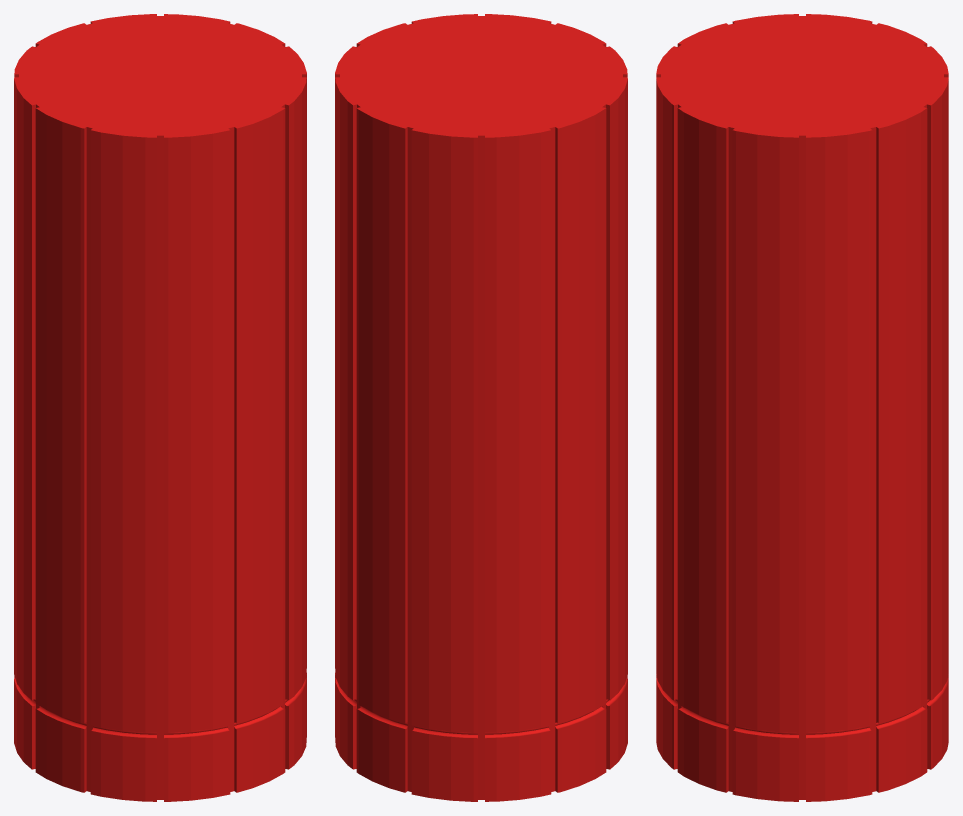
Rendered from Колонна проба.fbx.
3 views of the same model, side by side, from view 1: azimuth 30°, elevation 25°; view 2: azimuth 150°, elevation 25°; view 3: azimuth 270°, elevation 25° (orthographic).
Parts seen in each view (by area): view 1: Cylinder.001, Cube.001; view 2: Cylinder.001, Cube.001; view 3: Cylinder.001, Cube.001.
Part boxes in pixels (x1=…): Cylinder.001: x1=14, y1=14, x2=306, y2=801; Cube.001: x1=19, y1=16, x2=301, y2=799; Cylinder.001: x1=335, y1=14, x2=627, y2=801; Cube.001: x1=340, y1=16, x2=622, y2=799; Cylinder.001: x1=656, y1=14, x2=948, y2=801; Cube.001: x1=661, y1=16, x2=943, y2=799.
Bounding box in the file's own units: 399 × 1000 × 399.
